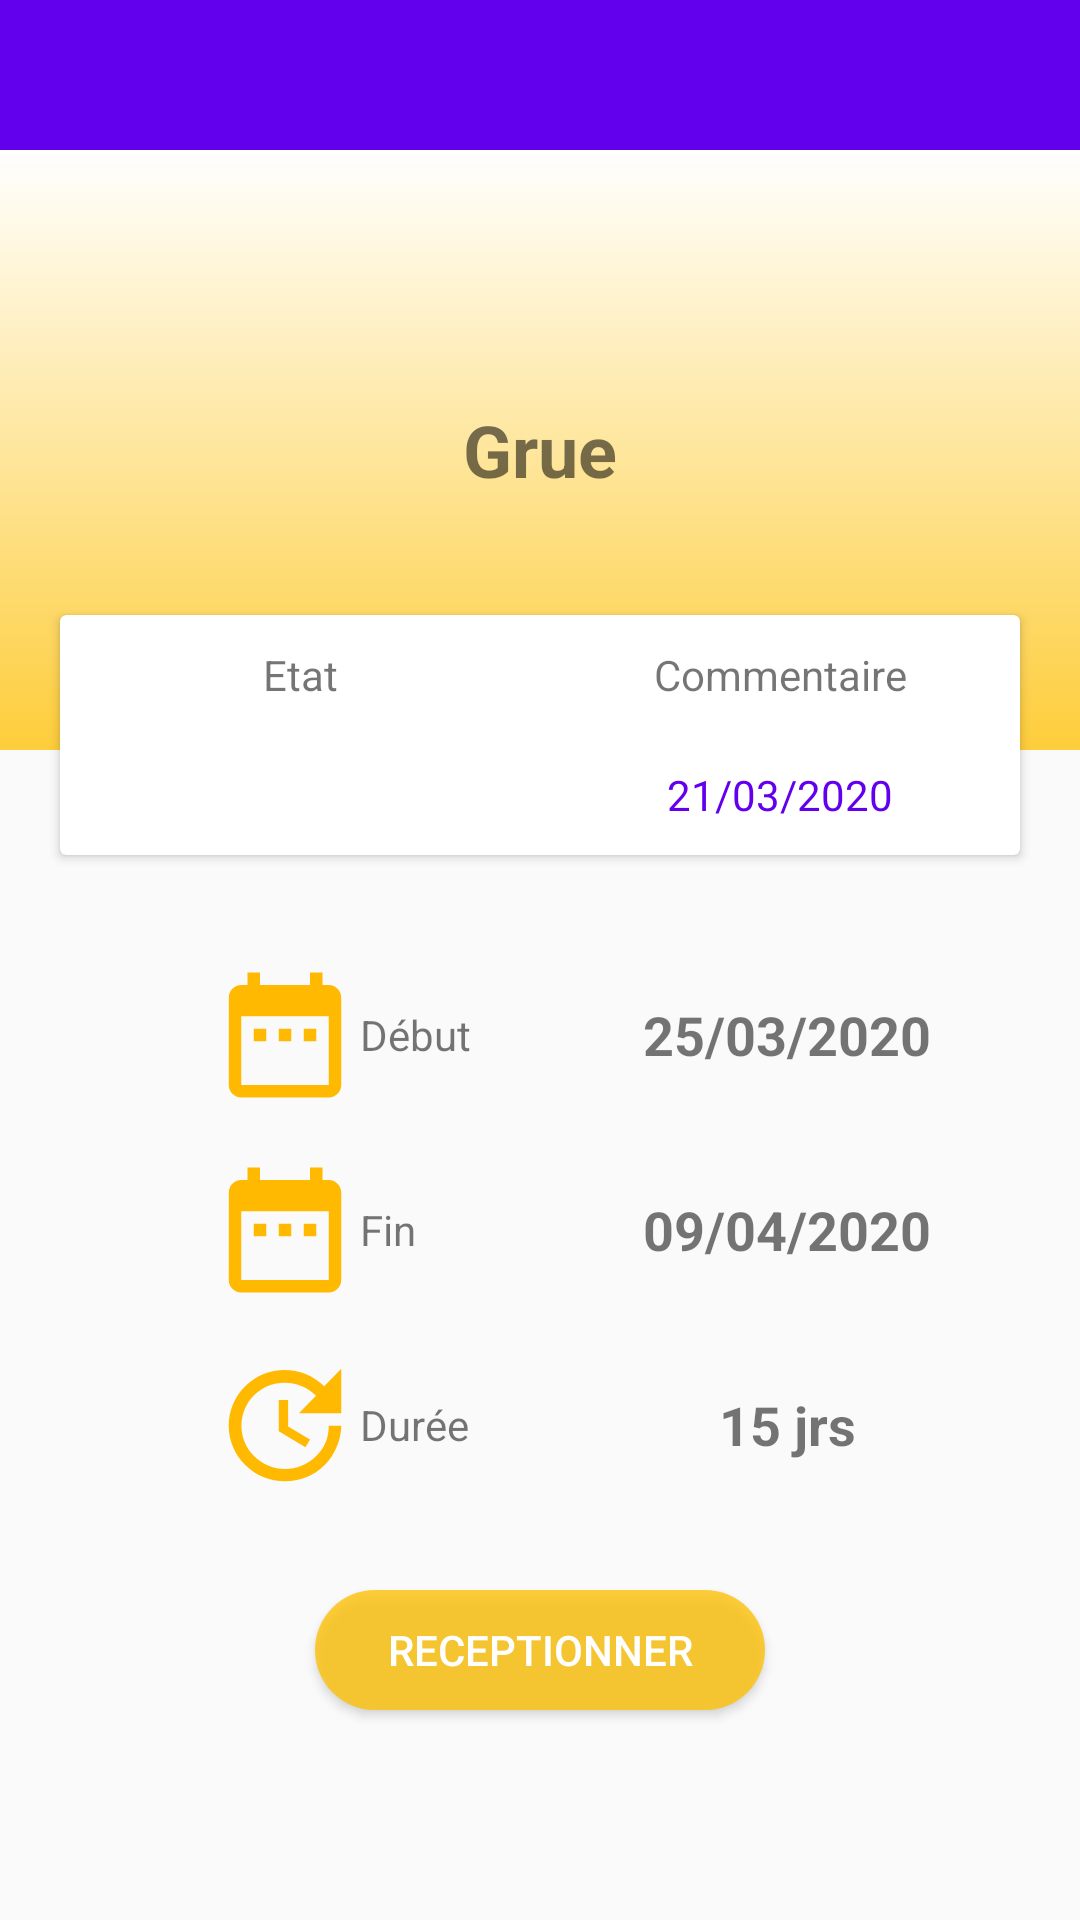

Where to tap for icons on this 1080x1920 app screen, as (x=x, y=y):
date range: (x=285, y=1035), (x=285, y=1230)
update: (x=285, y=1425)
